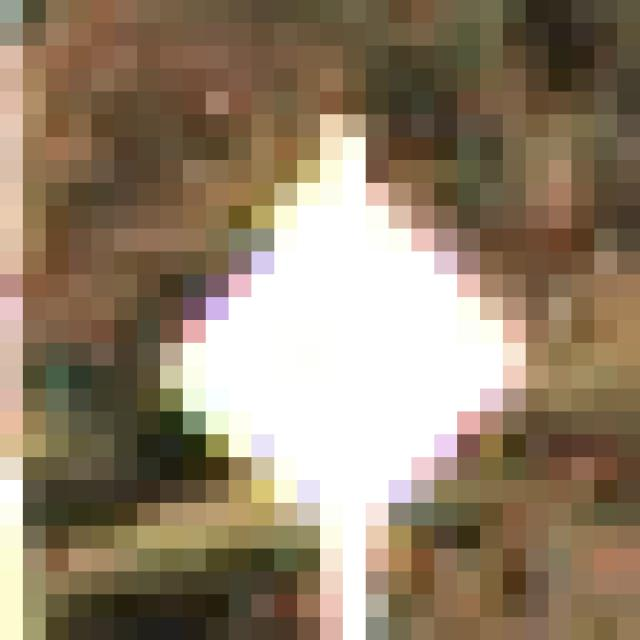Main Road: (138, 115, 527, 527)
